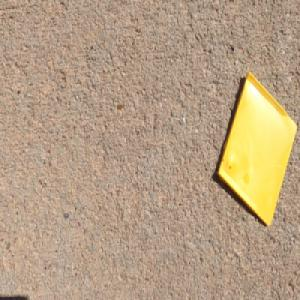PlasticPart: (216, 69, 297, 227)
